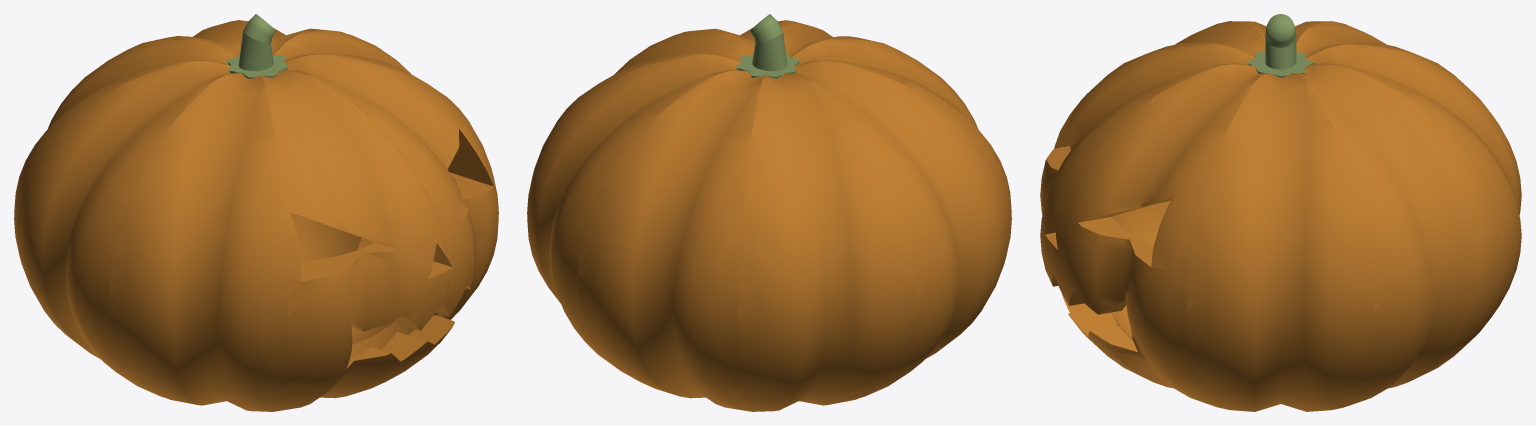
Rendered from citrouille.obj.
The picture shows the model from 3 angles, left to right: view 1: azimuth 30°, elevation 25°; view 2: azimuth 150°, elevation 25°; view 3: azimuth 270°, elevation 25°; orthographic projection.
Visible parts, largest first — view 1: Quartier_5, Quartier_6, Quartier, Quartier_7, Quartier_1, Quartier_4, Quartier_3, Queue, Quartier_2, Extruded_Object_4; view 2: Quartier_1, Quartier_2, Quartier, Quartier_3, Quartier_5, Quartier_4, Queue, Quartier_6, Extruded_Object_4, Quartier_7; view 3: Quartier_4, Quartier_3, Quartier_7, Quartier_6, Quartier_2, Quartier_5, Quartier_1, Queue, Extruded_Object_4.
Boxes of the visible parts, x1,y1,x2,y2 form: Quartier_5: (108, 73, 287, 411); Quartier_6: (260, 71, 448, 411); Quartier: (16, 61, 239, 397); Quartier_7: (279, 54, 498, 378); Quartier_1: (14, 39, 234, 263); Quartier_4: (274, 31, 487, 344); Quartier_3: (240, 20, 361, 260); Queue: (238, 14, 275, 70); Quartier_2: (122, 20, 245, 57); Extruded_Object_4: (226, 53, 287, 79); Quartier_1: (738, 73, 916, 411); Quartier_2: (577, 71, 765, 411); Quartier: (786, 61, 1009, 397); Quartier_3: (527, 54, 746, 375); Quartier_5: (792, 39, 1011, 265); Quartier_4: (538, 31, 752, 157); Queue: (750, 14, 787, 70); Quartier_6: (780, 20, 901, 57); Extruded_Object_4: (735, 52, 800, 78); Quartier_7: (681, 20, 786, 54); Quartier_4: (1187, 73, 1374, 411); Quartier_3: (1293, 64, 1507, 409); Quartier_7: (1054, 64, 1268, 409); Quartier_6: (1040, 44, 1255, 339); Quartier_2: (1306, 44, 1521, 335); Quartier_5: (1086, 21, 1265, 245); Quartier_1: (1296, 21, 1457, 78); Queue: (1265, 14, 1296, 69); Extruded_Object_4: (1247, 52, 1314, 77).
Bounding box in the file's own units: 29.37 × 24.72 × 29.38.
